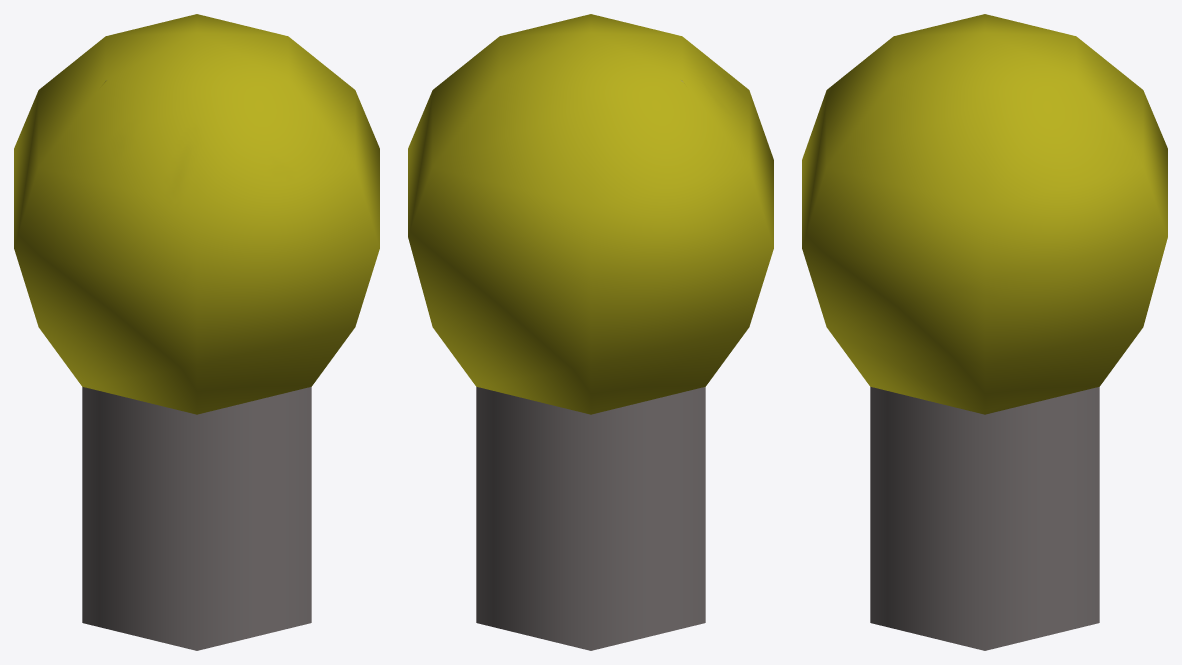
The model's file is PointLight.obj.
3 views of the same model, side by side, from view 1: azimuth 30°, elevation 25°; view 2: azimuth 150°, elevation 25°; view 3: azimuth 270°, elevation 25° (orthographic).
Visible parts, largest first — view 1: Sphere; view 2: Sphere; view 3: Sphere.
Boxes of the visible parts, left/top/right/bottom form: Sphere: left=14, top=14, right=379, bottom=650; Sphere: left=408, top=14, right=773, bottom=650; Sphere: left=802, top=14, right=1167, bottom=650.
Size of the model in its own units: 2 by 3.1 by 1.73.
